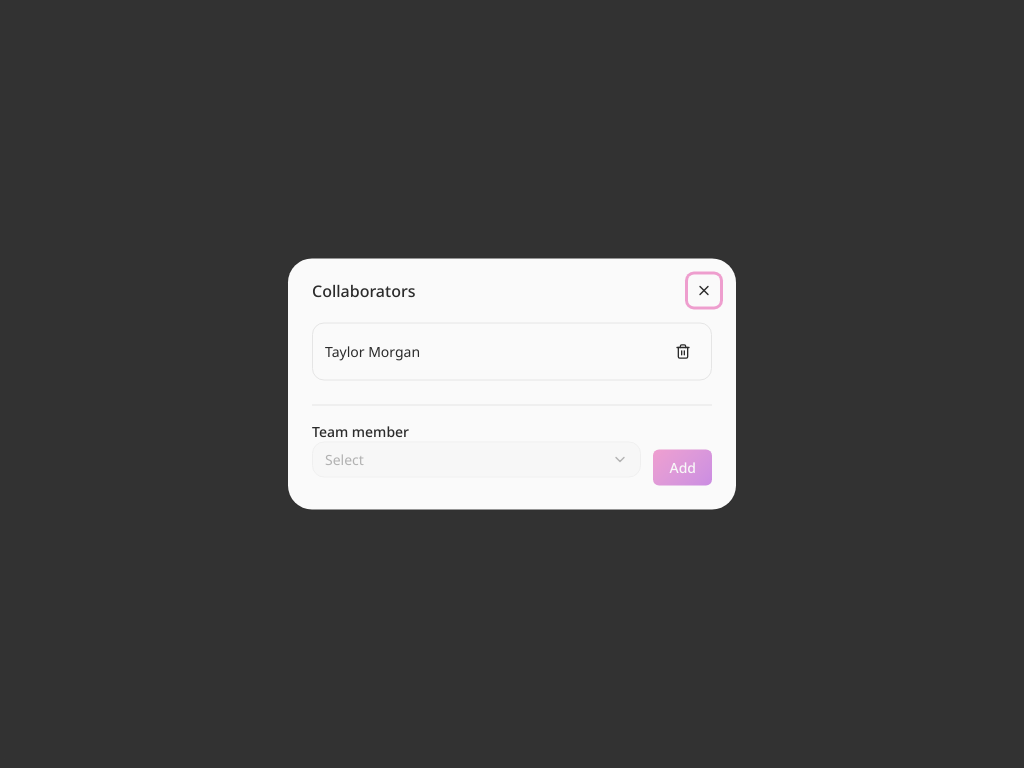
Test: record collaborators › keeps failed removal visible for correction
Click the button named "Remove Taylor Morgan".
click(683, 352)  # box [667,336,699,368]
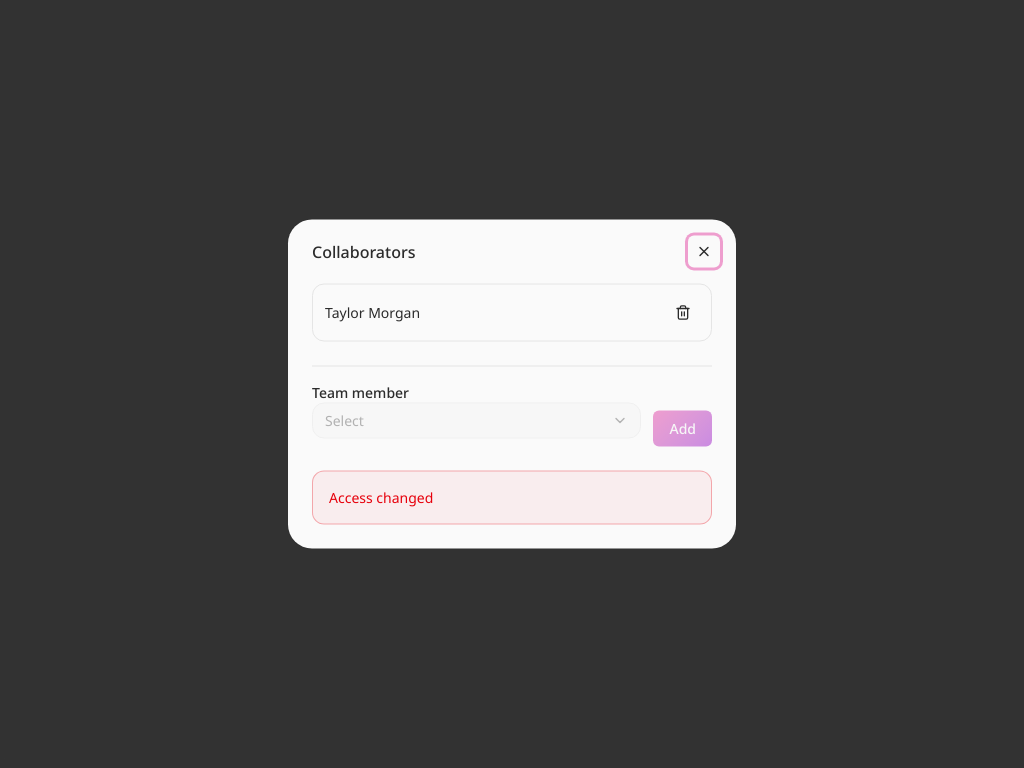
Expected: the button named "Remove Taylor Morgan" is shown, [667,296,699,328]
Result: the message reads "Access changed" at [329,488,433,506]
